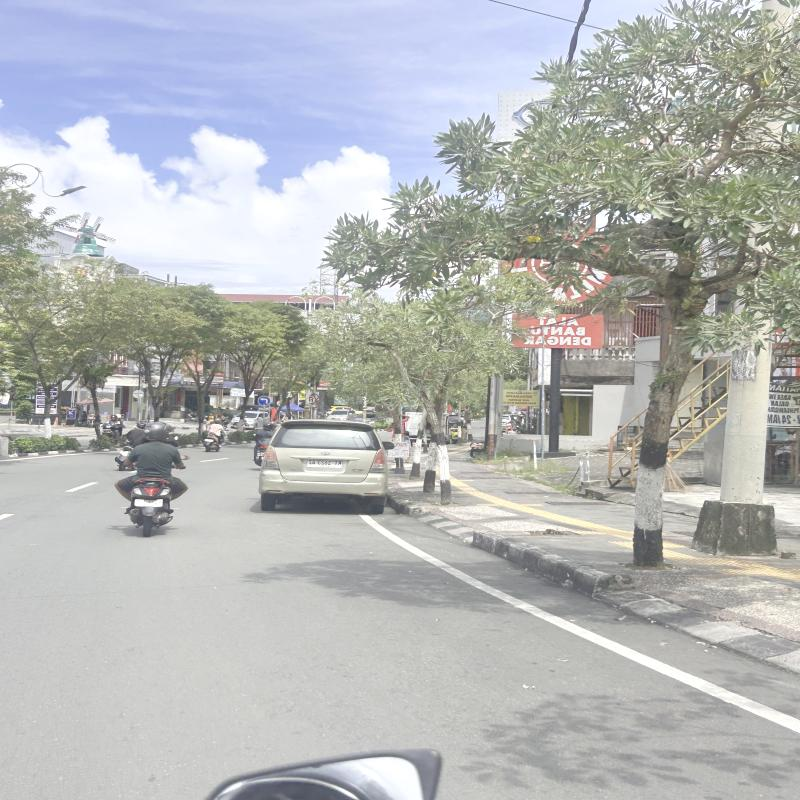license plate on a car: (307, 460, 342, 468)
